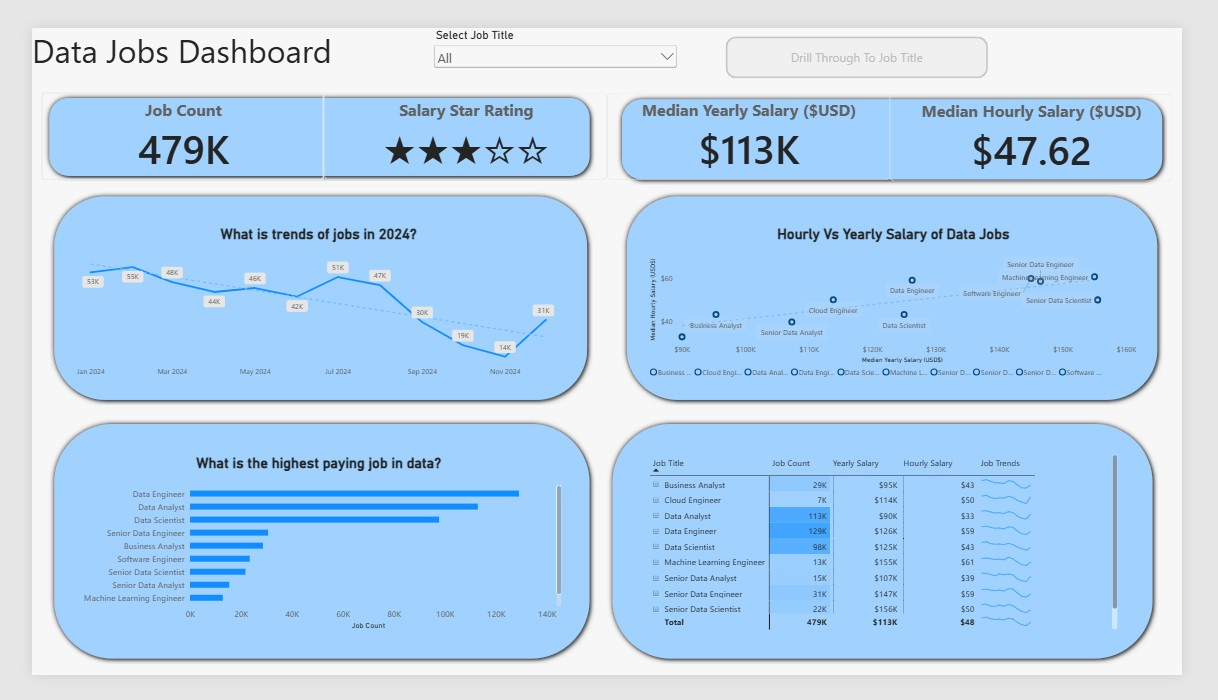

What the dashboard file says about the page in this screenshot:
{"tool":"powerbi","page":{"name":"Data Jobs Dashboard","canvas":[1920,1080],"ordinal":0},"visuals":[{"type":"group","id":"g1","title":"Background","box":[20,108,1876,954],"z":500},{"type":"textbox","box":[0,0,666,106],"z":1000},{"type":"slicer","fields":{"Values":["job_postings_flat.job_title_short"]},"box":[666,0,416,108],"z":3000},{"type":"cardVisual","fields":{"Data":["CountNonNull(job_postings_flat.job_title_short)"]},"box":[16,108,472,146],"z":5000},{"type":"cardVisual","fields":{"Data":["job_postings_flat.Salary Star Rating"]},"box":[488,108,472,146],"z":6000},{"type":"cardVisual","fields":{"Data":["Median(job_postings_flat.salary_year_avg)"]},"box":[960,108,472,146],"z":8000},{"type":"cardVisual","fields":{"Data":["Median(job_postings_flat.salary_hour_avg)"]},"box":[1432,110,472,146],"z":10000},{"type":"lineChart","title":"What is trends of jobs in 2024?","fields":{"Category":["job_postings_flat.job_posted_date.Variation.Date Hierarchy.Year","job_postings_flat.job_posted_date.Variation.Date Hierarchy.Quarter","job_postings_flat.job_posted_date.Variation.Date Hierarchy.Month","job_postings_flat.job_posted_date.Variation.Date Hierarchy.Day"],"Y":["CountNonNull(job_postings_flat.job_title_short)"]},"box":[58,316,842,288],"z":11000},{"type":"barChart","title":"What is the highest paying job in data?","fields":{"Category":["job_postings_flat.job_title_short"],"Y":["CountNonNull(job_postings_flat.job_title_short)"]},"box":[58,698,842,322],"z":12000},{"type":"scatterChart","title":"Hourly Vs Yearly Salary of Data Jobs","fields":{"Series":["job_postings_flat.job_title_short"],"X":["Median(job_postings_flat.salary_year_avg)"],"Y":["Median(job_postings_flat.salary_hour_avg)"]},"box":[1016,316,844,288],"z":13000},{"type":"pivotTable","fields":{"Rows":["job_postings_flat.job_title_short","job_postings_flat.job_posted_date.Variation.Date Hierarchy.Quarter"],"Values":["CountNonNull(job_postings_flat.job_title_short)","Median(job_postings_flat.salary_year_avg)","Median(job_postings_flat.salary_hour_avg)","SparklineData(CountNonNull(job_postings_flat.job_title_short)_[job_postings_flat.job_posted_date.Variation.Date Hierarch"]},"box":[1016,698,812,322],"z":14000},{"type":"actionButton","box":[1158,14,438,70],"z":16000},{"type":"shape","box":[28,652,912,410],"z":16250,"group":"g1"},{"type":"shape","box":[28,272,908,358],"z":16375,"group":"g1"},{"type":"shape","box":[976,110,920,152],"z":16437,"group":"g1"},{"type":"shape","box":[20,108,920,148],"z":16468,"group":"g1"},{"type":"shape","box":[960,652,920,410],"z":16500,"group":"g1"},{"type":"shape","box":[984,272,904,358],"z":17000,"group":"g1"}]}

Visuals, with their boxes in screenshot pixels (x1, y1, x2, y2), scaled from the page's 1920x1080 canvas onto the 1218x700 screenshot:
"Background" group: 13,70,1203,688
textbox: 0,0,422,69
slicer - job_postings_flat.job_title_short: 422,0,686,70
cardVisual - CountNonNull(job_postings_flat.job_title_short): 10,70,310,165
cardVisual - job_postings_flat.Salary Star Rating: 310,70,609,165
cardVisual - Median(job_postings_flat.salary_year_avg): 609,70,908,165
cardVisual - Median(job_postings_flat.salary_hour_avg): 908,71,1208,166
"What is trends of jobs in 2024?" lineChart: 37,205,571,391
"What is the highest paying job in data?" barChart: 37,452,571,661
"Hourly Vs Yearly Salary of Data Jobs" scatterChart: 645,205,1180,391
pivotTable - job_postings_flat.job_title_short x job_postings_flat.job_posted_date.Variation.Date Hierarchy.Quarter: 645,452,1160,661
actionButton: 735,9,1012,54
shape: 18,423,596,688
shape: 18,176,594,408
shape: 619,71,1203,170
shape: 13,70,596,166
shape: 609,423,1193,688
shape: 624,176,1198,408
